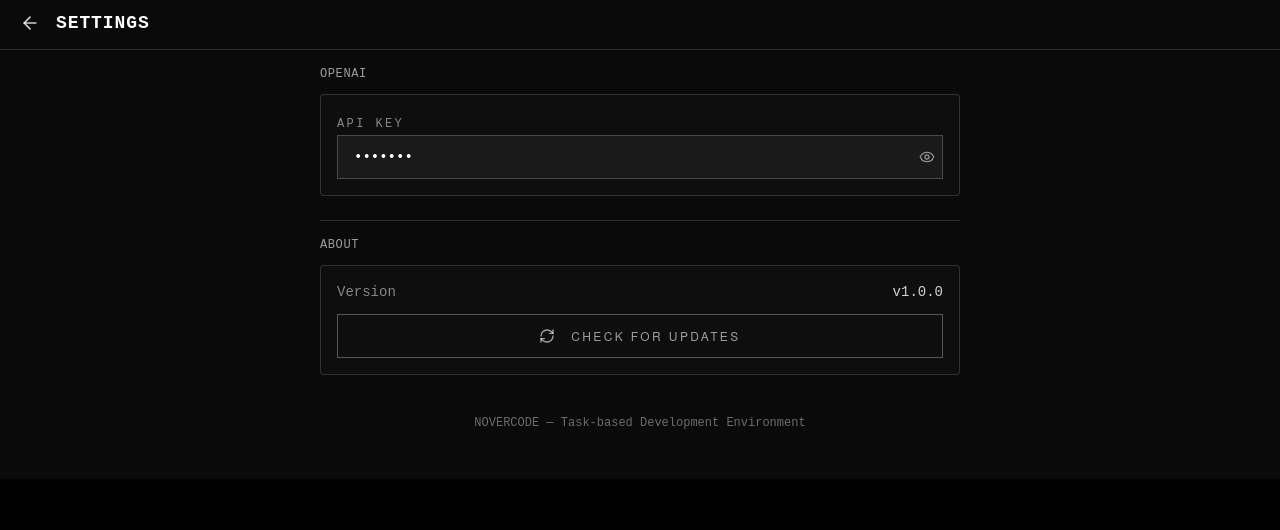
SettingsPage › shows save button when API key is modified
The width and height of the screenshot is (1280, 530).
Type "sk-new" into the password field showing "sk-test" at (640, 157), box [337,135,943,179]
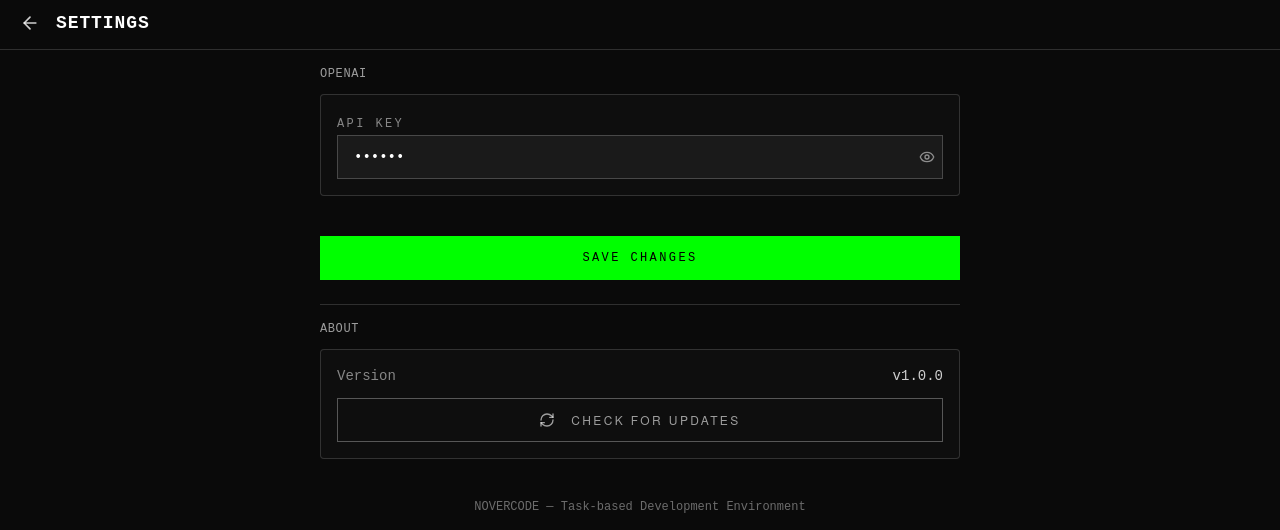
Check: the button "Save Changes" is enabled, box [320,236,960,280]
